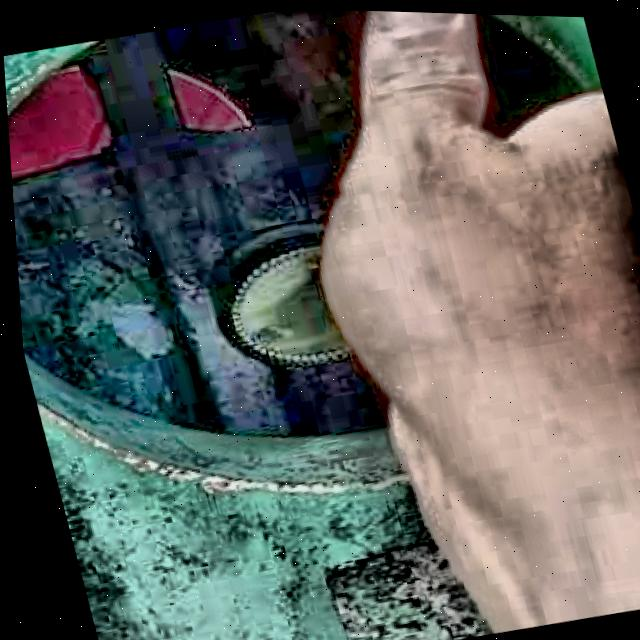glass: (226, 241, 350, 365)
